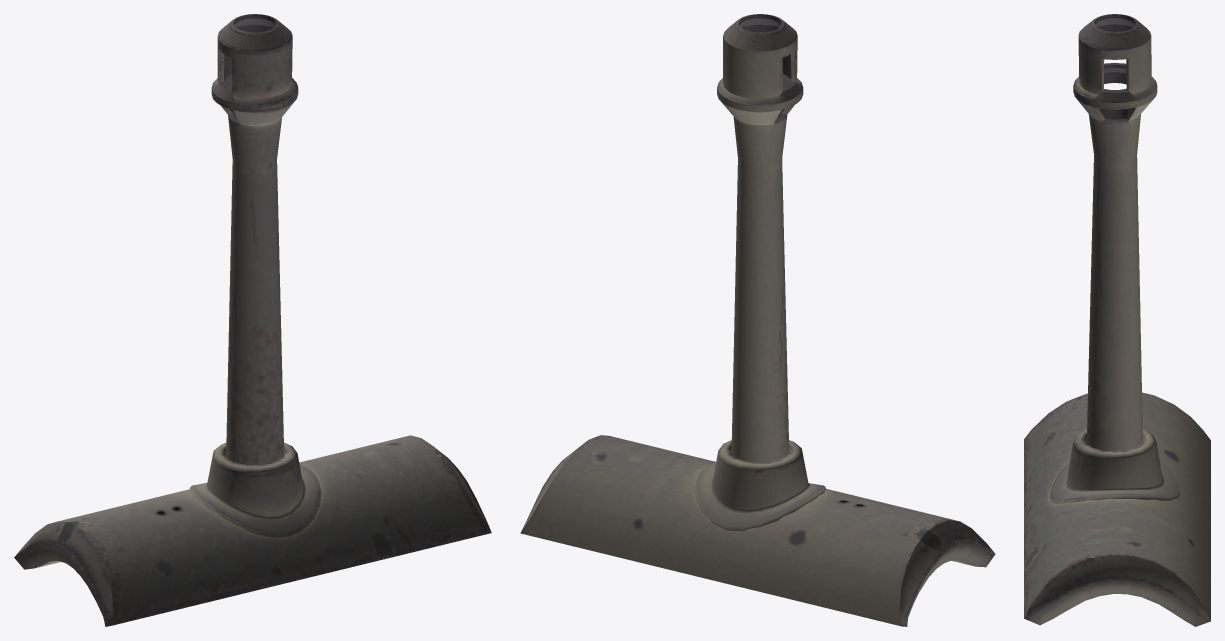
The model's file is Gun_05.glb.
3 renders of one model, left to right at view 1: azimuth 30°, elevation 25°; view 2: azimuth 150°, elevation 25°; view 3: azimuth 270°, elevation 25°, orthographic. The views are drawn at different scales.
Visible parts, largest first — view 1: set_0_group_0; view 2: set_0_group_0; view 3: set_0_group_0.
Part boxes in pixels (x1,y1,x2,y2): set_0_group_0: [14, 14, 491, 626]; set_0_group_0: [520, 14, 995, 626]; set_0_group_0: [1024, 14, 1210, 626].
Size of the model in its own units: 1.54 by 2.04 by 0.6704.
1 material, 1 textured.
